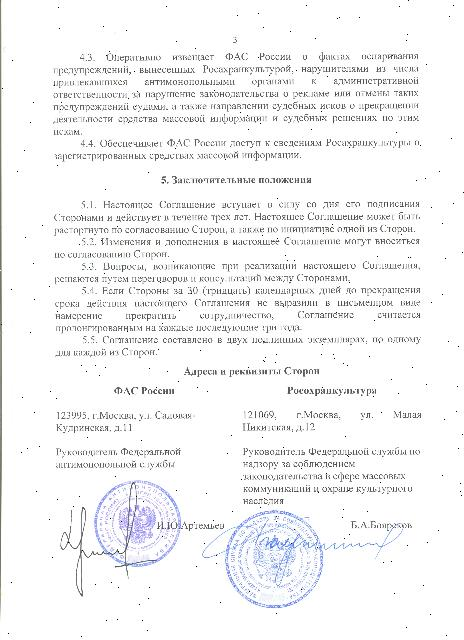stamp: (226, 510, 324, 610), (95, 481, 179, 565)
